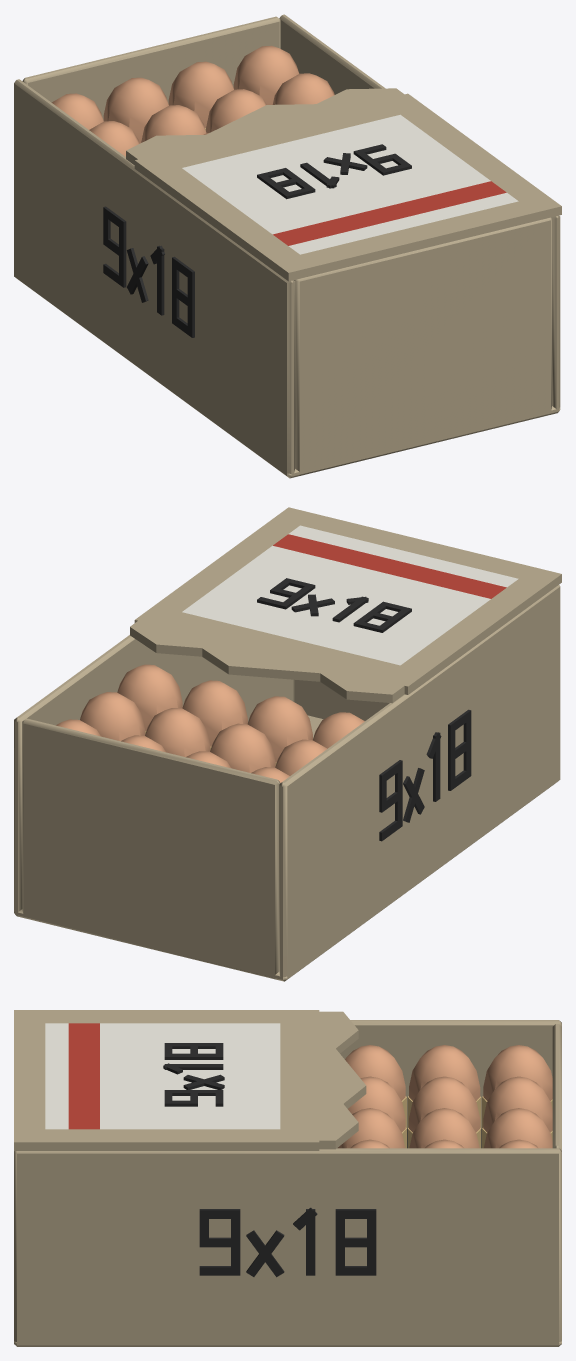
The model's file is ammo_9x18.glb.
3 renders of one model, top to bottom at view 1: azimuth 30°, elevation 25°; view 2: azimuth 150°, elevation 25°; view 3: azimuth 270°, elevation 25°, orthographic.
Parts seen in each view (by area): view 1: body; view 2: body; view 3: body.
Part boxes in pixels (bbox=[...]): body: bbox=[14, 14, 561, 478]; body: bbox=[14, 507, 561, 981]; body: bbox=[14, 1010, 561, 1346].
Bounding box in the file's own units: 0.0408 × 0.0294 × 0.07.
